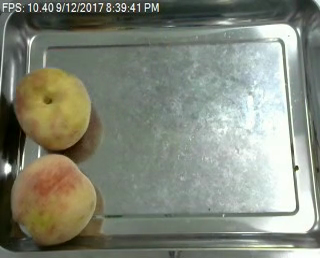Peach: (10, 154, 97, 248), (14, 67, 92, 150)
